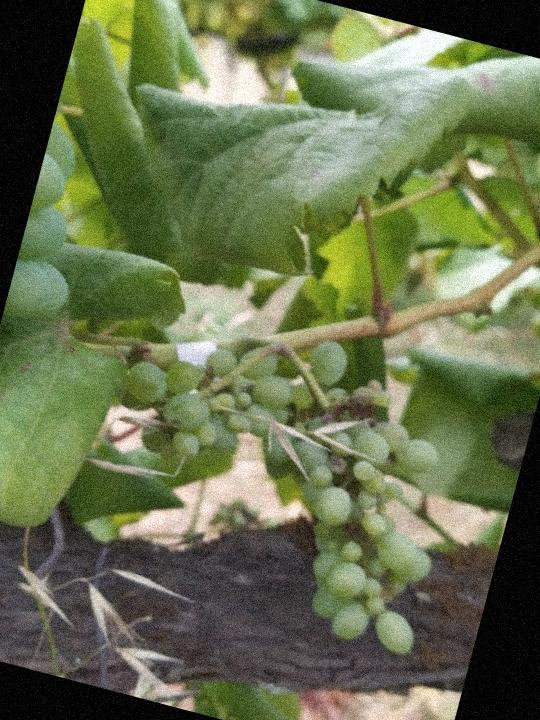grape: (75, 291, 494, 669)
